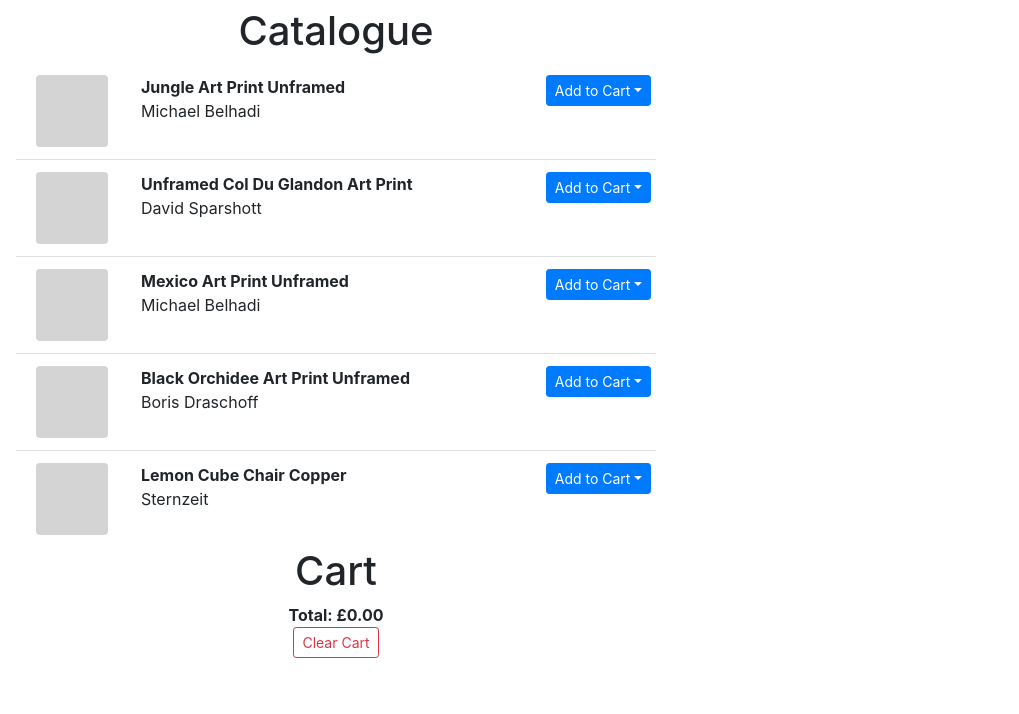
e2e tests - as a user › when an item variant runs out of stock › I see the item variant's "Add to Cart" button disabled if it is already out of stock
Click the button "Add to Cart" next to "Black Orchidee Art Print Unframed" at (598, 382), box [546,366,651,397]
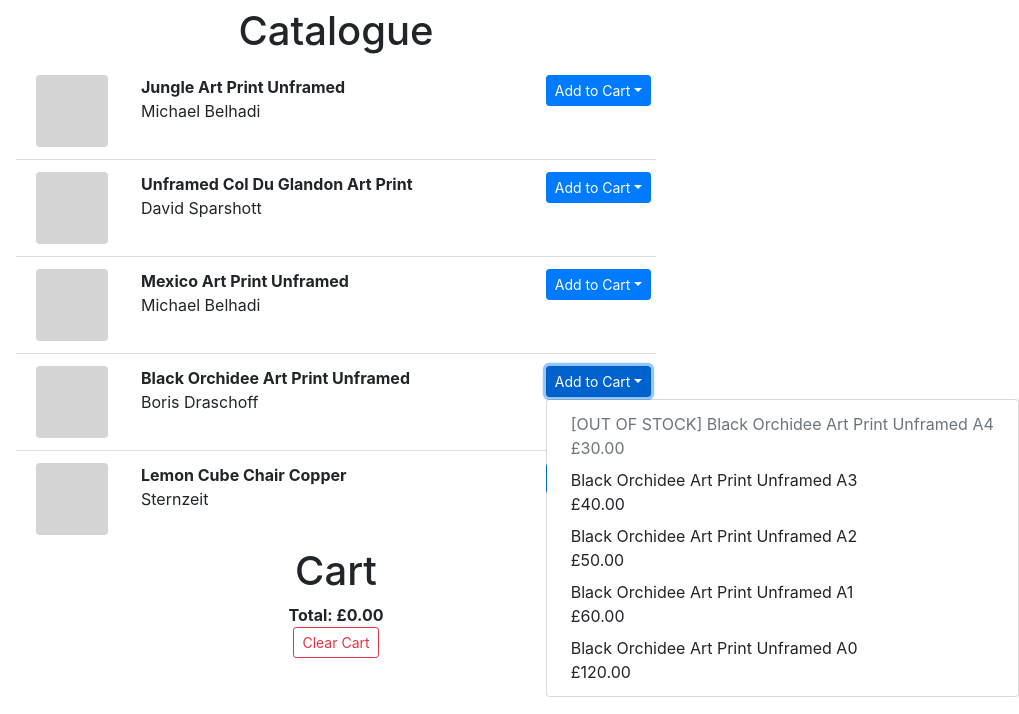
Expected: the text "[OUT OF STOCK] Black Orchidee Art Print Unframed A4" is shown, [571,412,994,436]
